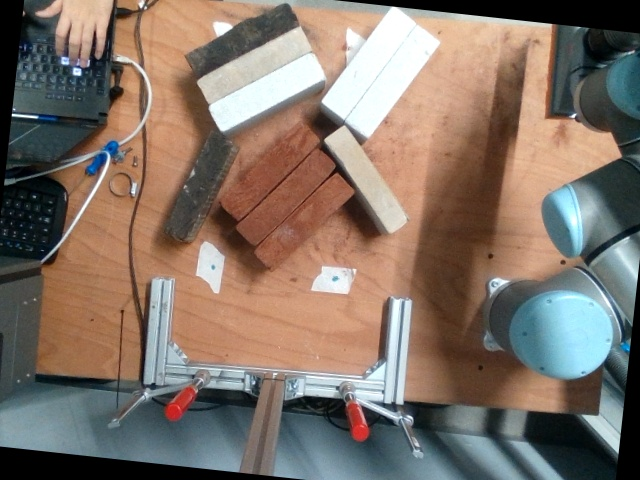brick-side: (324, 8, 414, 115), (349, 29, 436, 132), (222, 127, 316, 218), (256, 176, 350, 266), (239, 152, 333, 242), (210, 54, 322, 127), (198, 29, 309, 102), (328, 128, 407, 228), (187, 4, 297, 74), (166, 132, 228, 238)
